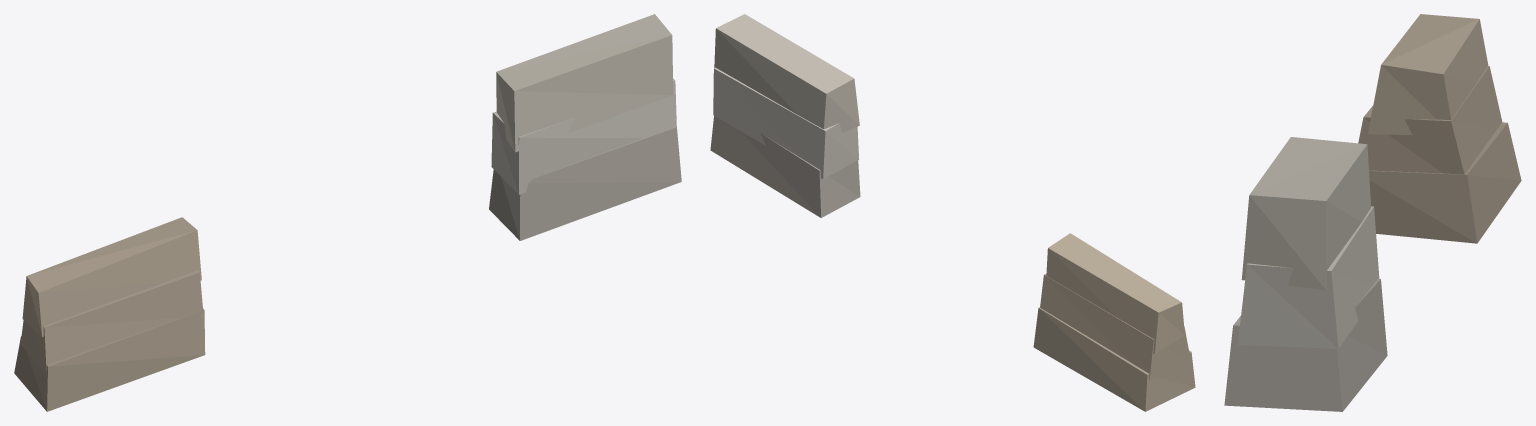
The model's file is farm_-28_-31_mid.glb.
3 renders of one model, left to right at view 1: azimuth 30°, elevation 25°; view 2: azimuth 150°, elevation 25°; view 3: azimuth 270°, elevation 25°, orthographic. The views are drawn at different scales.
Parts seen in each view (by area): view 1: geometry_0; view 2: geometry_0; view 3: geometry_0.
Boxes of the visible parts, box(x1,y1,x2,y2) form: geometry_0: box(14, 14, 681, 411); geometry_0: box(710, 14, 1195, 411); geometry_0: box(1224, 14, 1521, 411).
Bounding box in the file's own units: 5.39 × 2.34 × 1.58.
